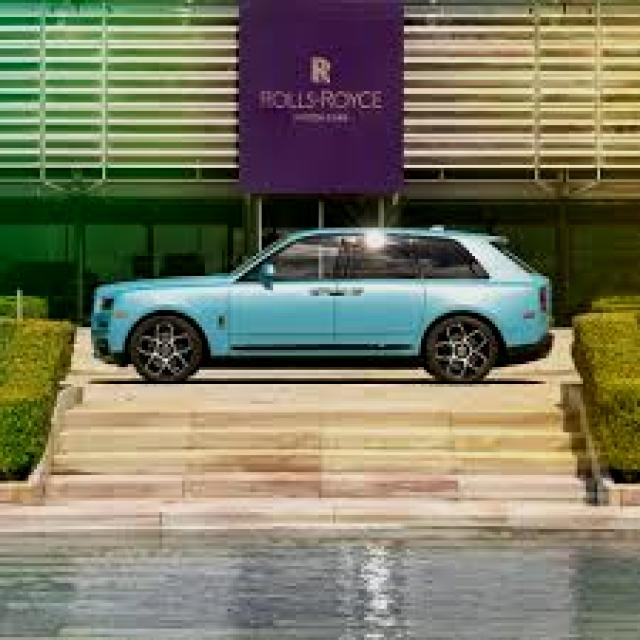SUV: (86, 219, 558, 383)
